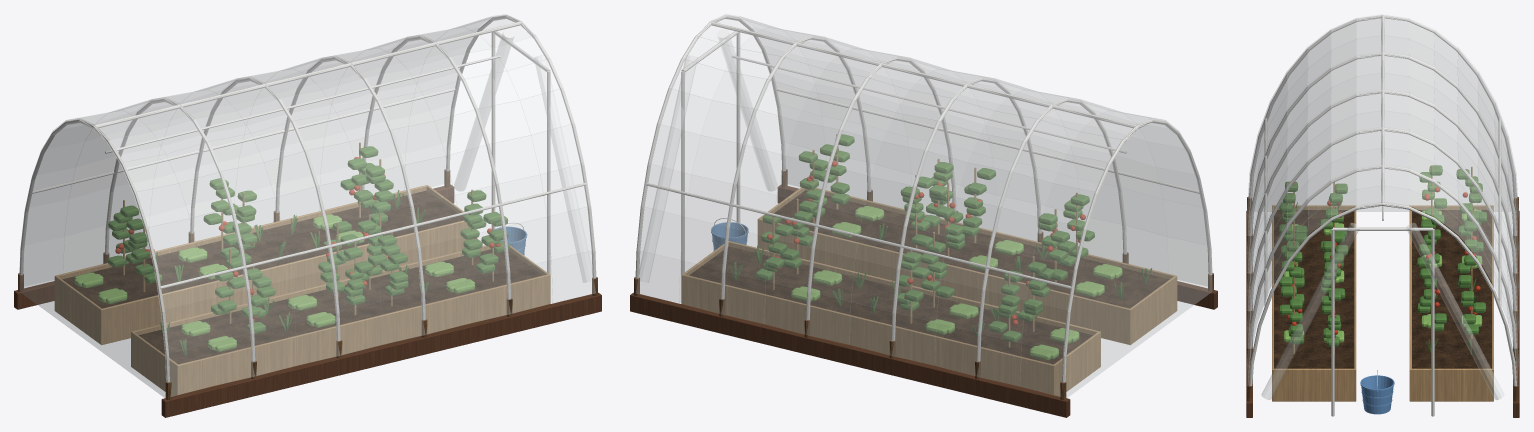
File: estufa.glb
The picture shows the model from 3 angles, left to right: view 1: azimuth 30°, elevation 25°; view 2: azimuth 150°, elevation 25°; view 3: azimuth 270°, elevation 25°; orthographic projection. The views are drawn at different scales.
Visible parts, largest first — view 1: estufa_plastico_estufa, estufa_madeira_crua, estufa_pvc, estufa_terra, estufa_muda, estufa_madeira_escura, estufa_alface, estufa_madeira_lenha; view 2: estufa_plastico_estufa, estufa_madeira_crua, estufa_pvc, estufa_terra, estufa_muda, estufa_madeira_escura, estufa_alface, estufa_madeira_lenha, estufa_plastico_azul, estufa_tomate; view 3: estufa_plastico_estufa, estufa_terra, estufa_pvc, estufa_muda, estufa_madeira_crua, estufa_madeira_escura, estufa_plastico_azul, estufa_madeira_lenha, estufa_alface, estufa_tomate.
Part boxes in pixels (left/top/right/bottom): estufa_plastico_estufa: left=19, top=14, right=595, bottom=397; estufa_madeira_crua: left=54, top=142, right=550, bottom=396; estufa_pvc: left=19, top=15, right=596, bottom=382; estufa_terra: left=62, top=190, right=542, bottom=364; estufa_muda: left=108, top=146, right=509, bottom=356; estufa_madeira_escura: left=14, top=184, right=601, bottom=417; estufa_alface: left=74, top=214, right=475, bottom=351; estufa_madeira_lenha: left=18, top=169, right=597, bottom=399; estufa_plastico_estufa: left=636, top=14, right=1212, bottom=397; estufa_madeira_crua: left=681, top=134, right=1177, bottom=396; estufa_pvc: left=635, top=15, right=1212, bottom=382; estufa_terra: left=689, top=190, right=1169, bottom=364; estufa_muda: left=729, top=134, right=1151, bottom=342; estufa_madeira_escura: left=630, top=184, right=1217, bottom=417; estufa_alface: left=791, top=206, right=1122, bottom=360; estufa_madeira_lenha: left=634, top=169, right=1213, bottom=399; estufa_plastico_azul: left=711, top=222, right=748, bottom=250; estufa_tomate: left=767, top=161, right=1085, bottom=325; estufa_plastico_estufa: left=1247, top=14, right=1518, bottom=399; estufa_terra: left=1274, top=210, right=1491, bottom=368; estufa_pvc: left=1249, top=15, right=1516, bottom=416; estufa_muda: left=1279, top=165, right=1487, bottom=354; estufa_madeira_crua: left=1272, top=166, right=1493, bottom=401; estufa_madeira_escura: left=1246, top=211, right=1519, bottom=417; estufa_plastico_azul: left=1360, top=375, right=1394, bottom=414; estufa_madeira_lenha: left=1247, top=196, right=1518, bottom=401; estufa_alface: left=1283, top=209, right=1482, bottom=342; estufa_tomate: left=1287, top=187, right=1480, bottom=334.
Size of the model in its own units: 4.13 by 2.12 by 2.46.
Materials: 11 (4 with a texture image).
